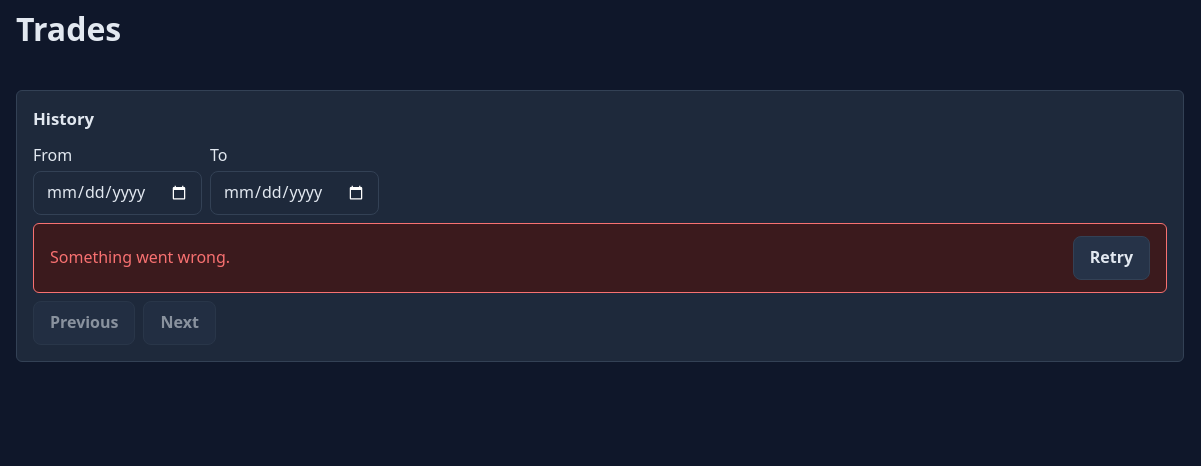
it: Trades list › shows an error with Retry when the list fails
The image size is (1201, 466).
Expected: the message shows "Something went wrong.", x1=50 y1=246 x2=230 y2=268
Click the button "Retry" at point(1111, 258), box x1=1073 y1=236 x2=1150 y2=280
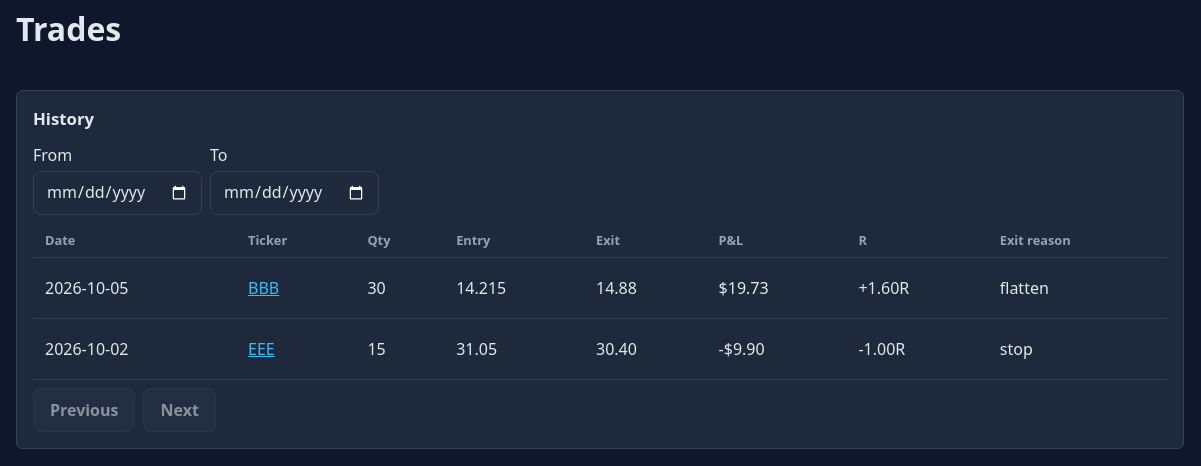
Now the row "2026-10-05 BBB 30 14.215 14.88 $19.73 +1.60R flatten" is shown, box x1=33 y1=258 x2=1167 y2=319
